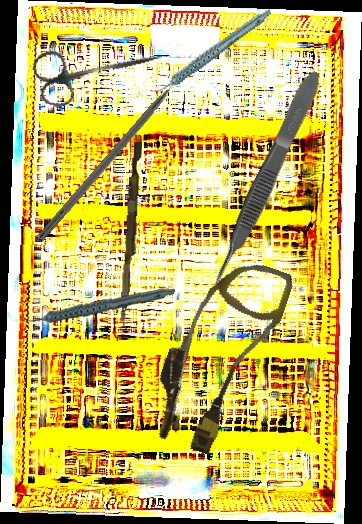Cannula: (141, 245, 296, 463)
Handpiece: (138, 7, 283, 96), (20, 281, 175, 328)
Hook Surgical: (36, 65, 194, 244)
Iris Scissors: (30, 26, 168, 112)
Pusher: (119, 141, 143, 328)
Tissue Forceps: (203, 67, 328, 289)
